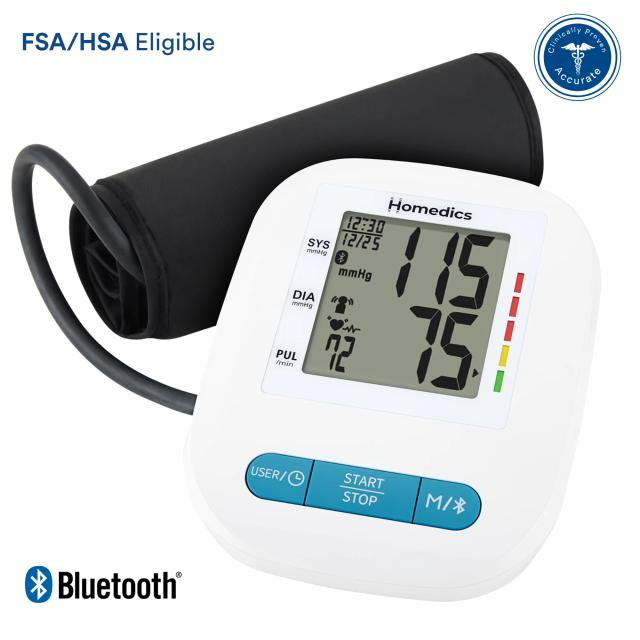dia: (382, 294, 488, 403)
pul: (299, 318, 370, 389)
ssd: (298, 197, 511, 409)
sys: (378, 215, 507, 315)
